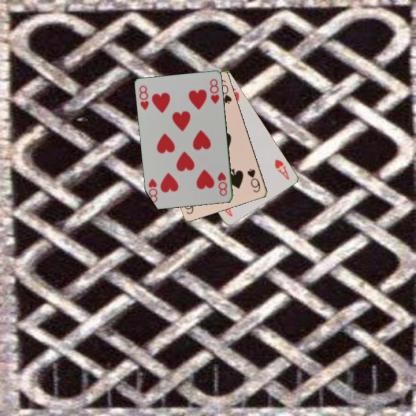6s: (245, 166, 262, 193)
8h: (136, 82, 150, 112), (215, 169, 229, 197)
Ah: (272, 156, 291, 181)
